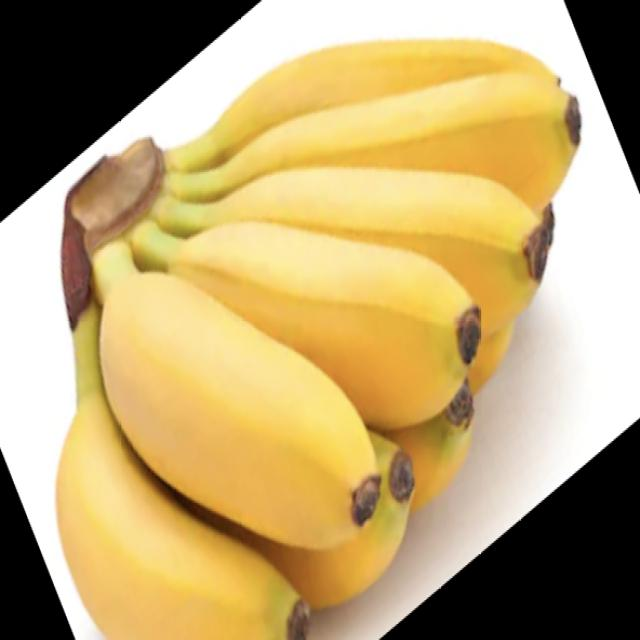god quality banana: (56, 40, 583, 639)
